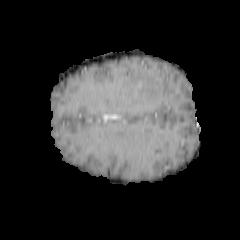glioma: (123, 70, 161, 105)
